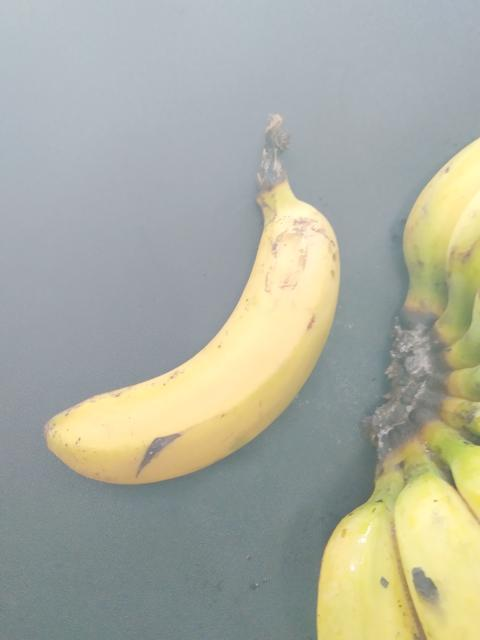ripe: (12, 167, 389, 482)
